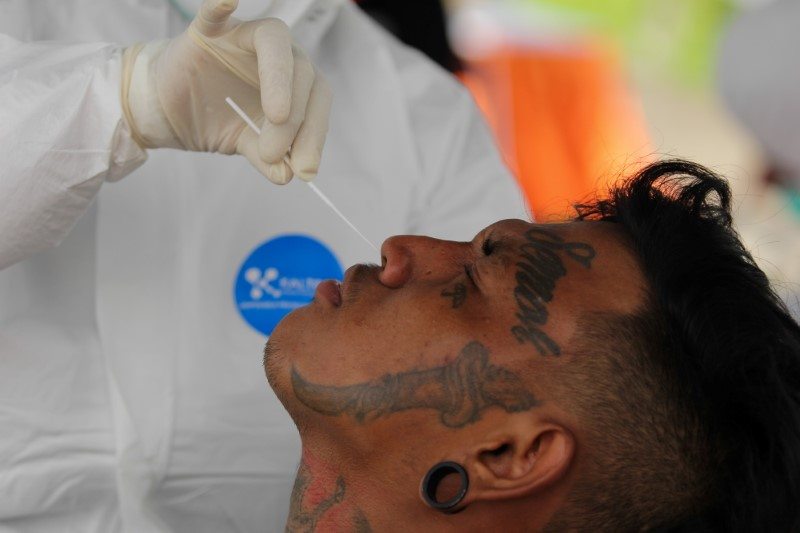Gloves: (119, 1, 336, 192)
without_mask: (259, 217, 589, 408)
